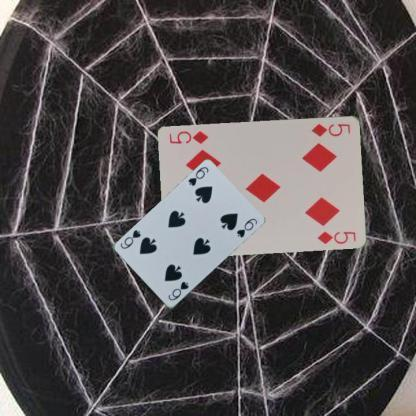5d: (309, 121, 351, 138)
6s: (166, 279, 190, 302), (186, 164, 209, 188)
